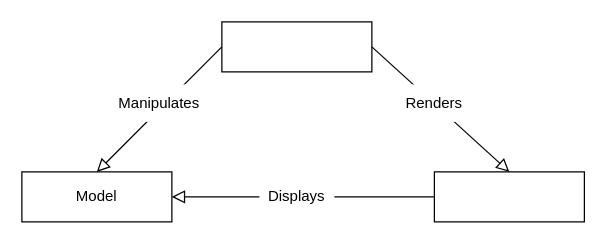
Some shapes in this 606 by 244 pixel diagram are drawn without their labels. Each missing label, with the centre of its shape:
Controller: (296,46)
Viewer: (508,196)
